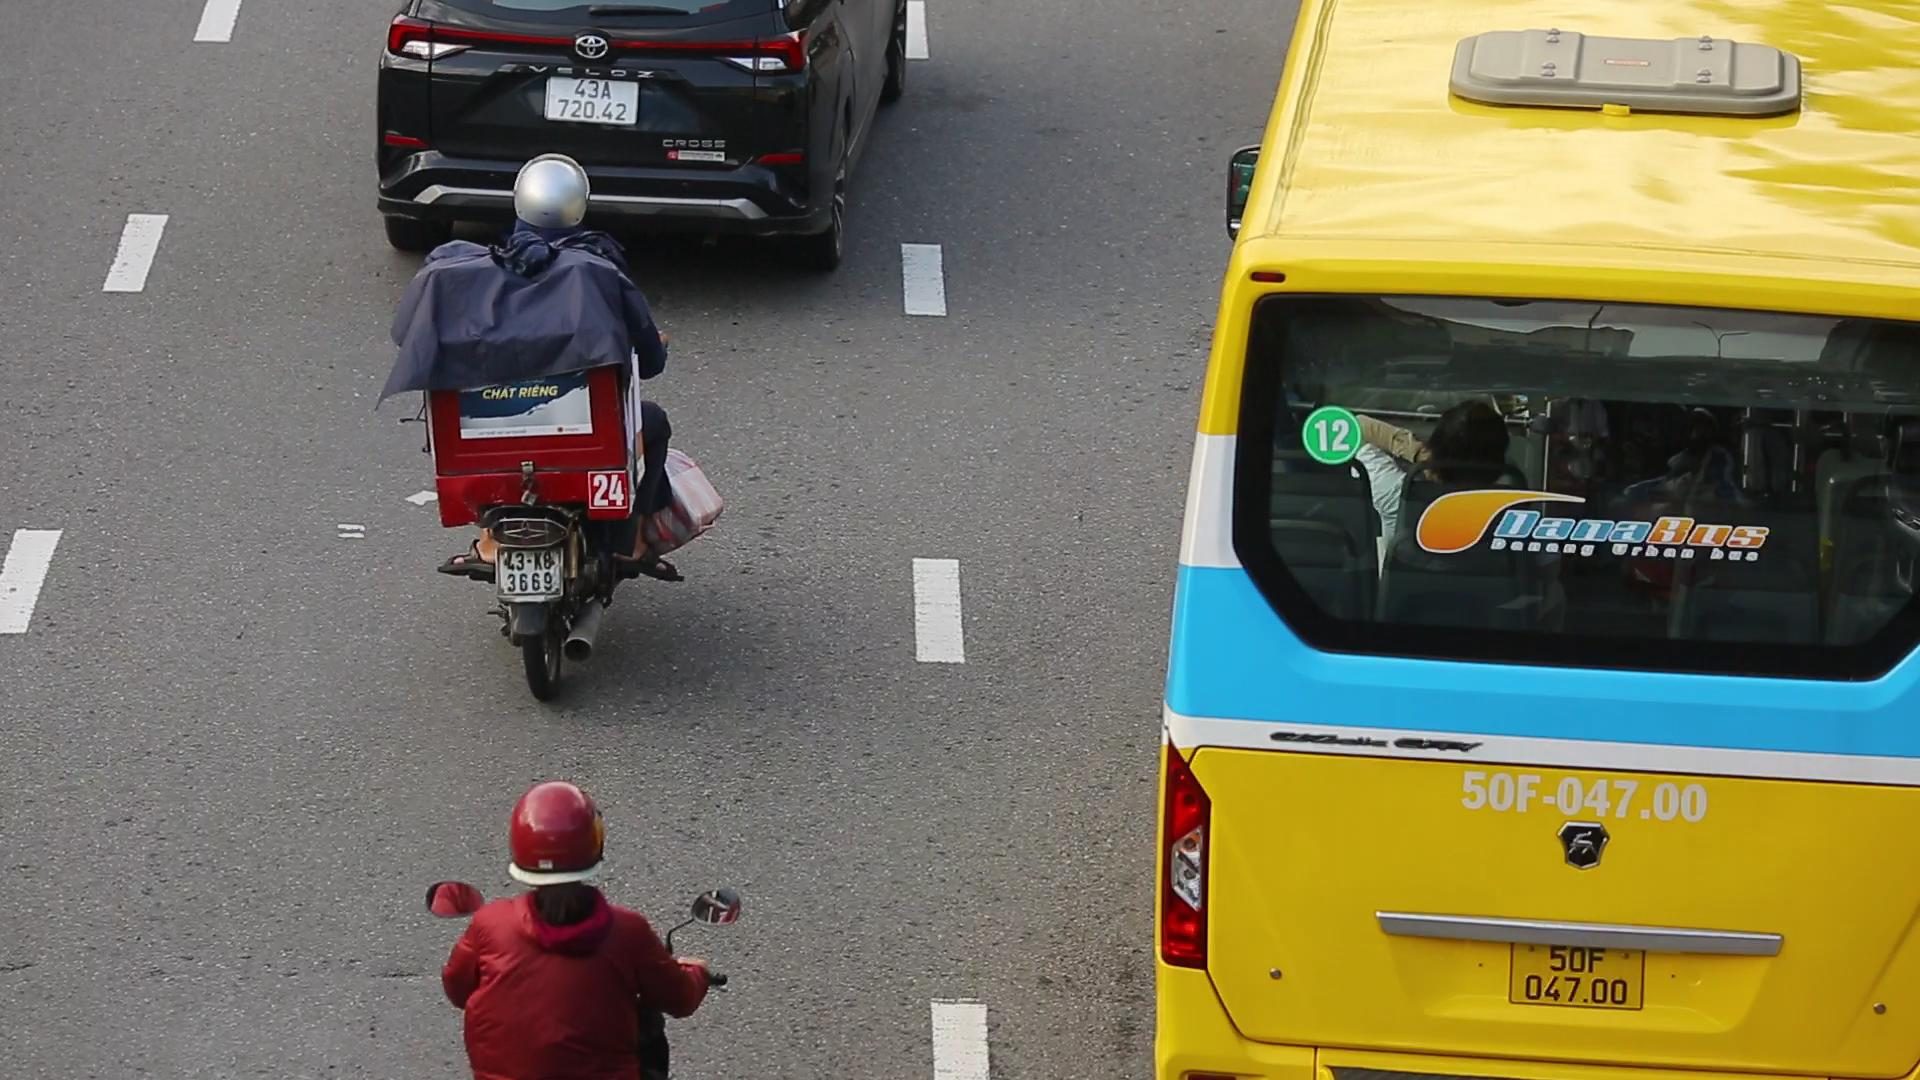motobike: (398, 156, 738, 712)
